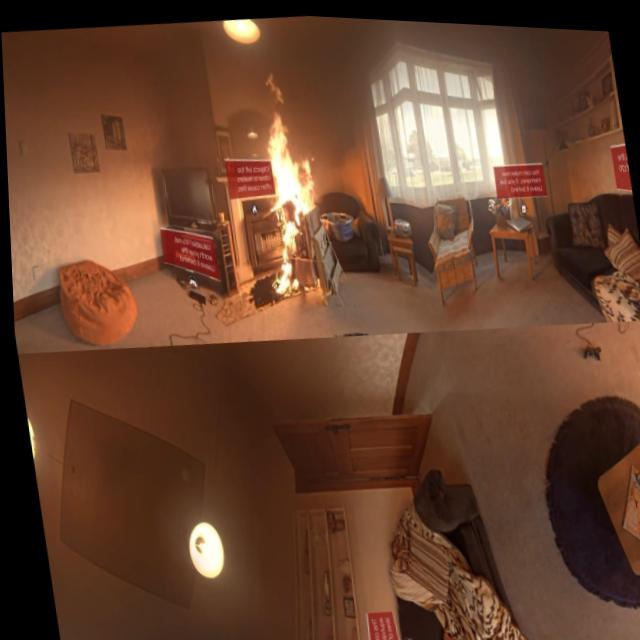fire: (240, 63, 325, 292)
